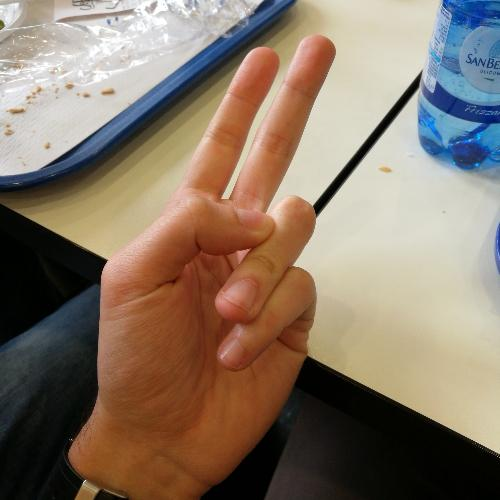scissors: (92, 30, 340, 488)
